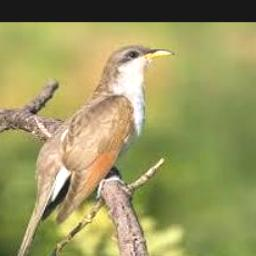Cuckoo: (9, 45, 174, 256)
